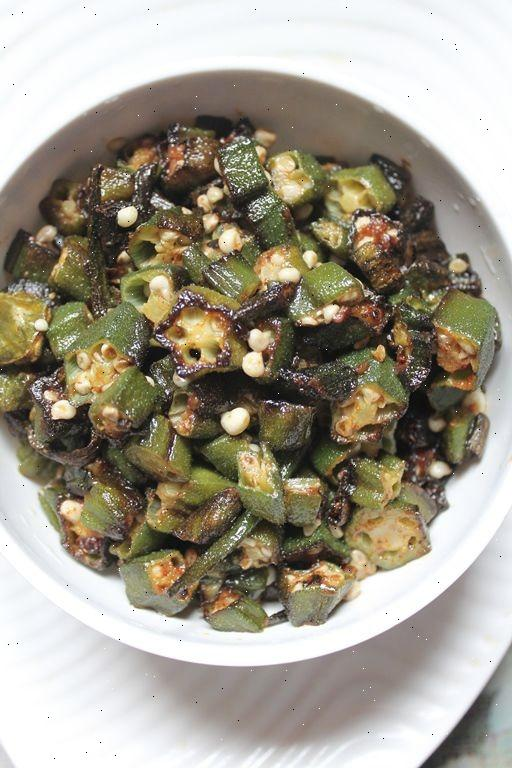bhindi: (13, 181, 481, 565)
